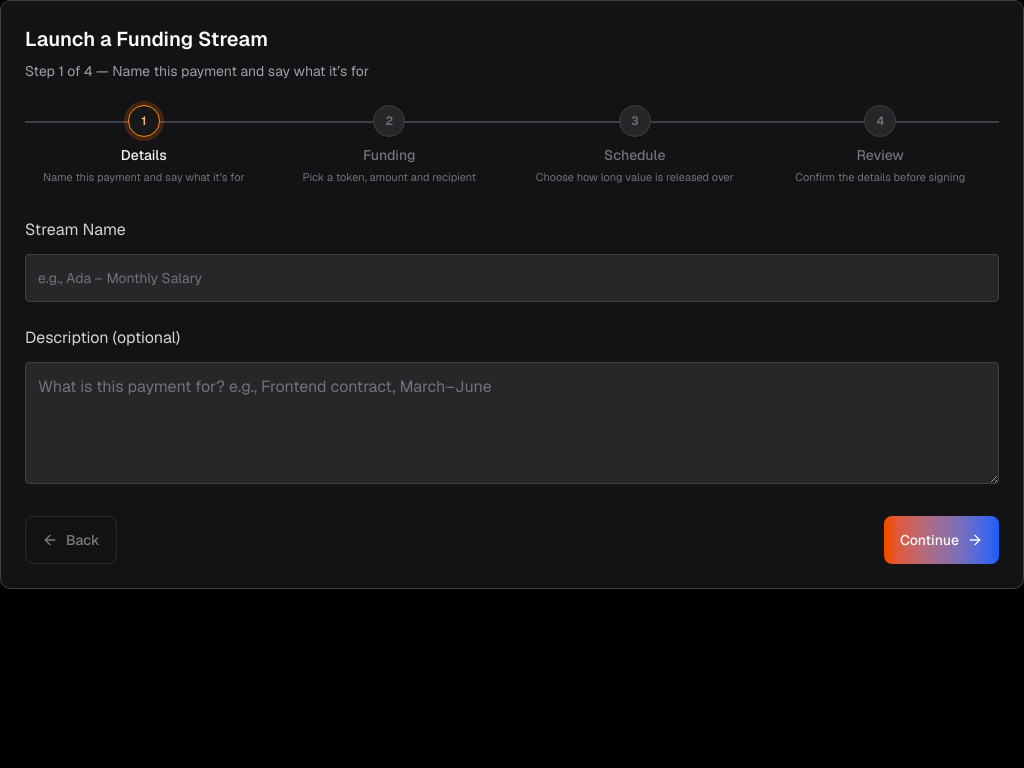
Scenario: StreamWizard › validates the recipient address and amount before leaving the funding step
Type "Q3 Contributor Grants" into the field labelled "Stream Name" at [512, 278], box [25,254,999,302]
Click the button "Continue" at [941, 540], box [884,516,999,564]
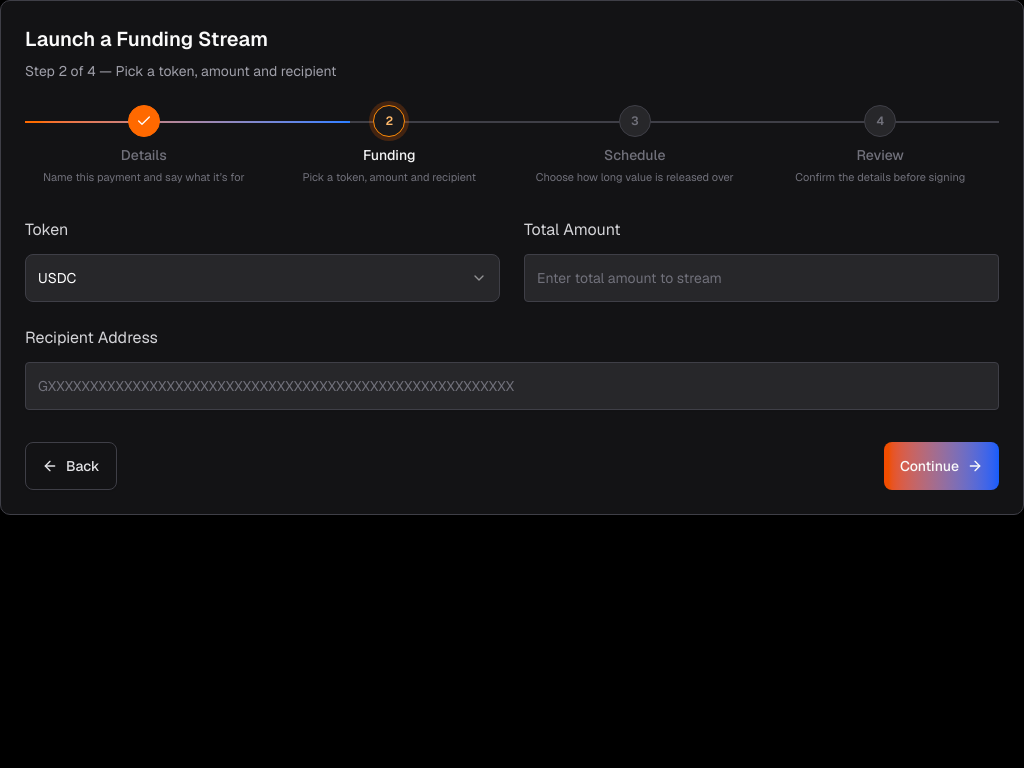
Type "not-a-stellar-address" into the field labelled "Recipient Address" at [512, 386], box [25,362,999,410]
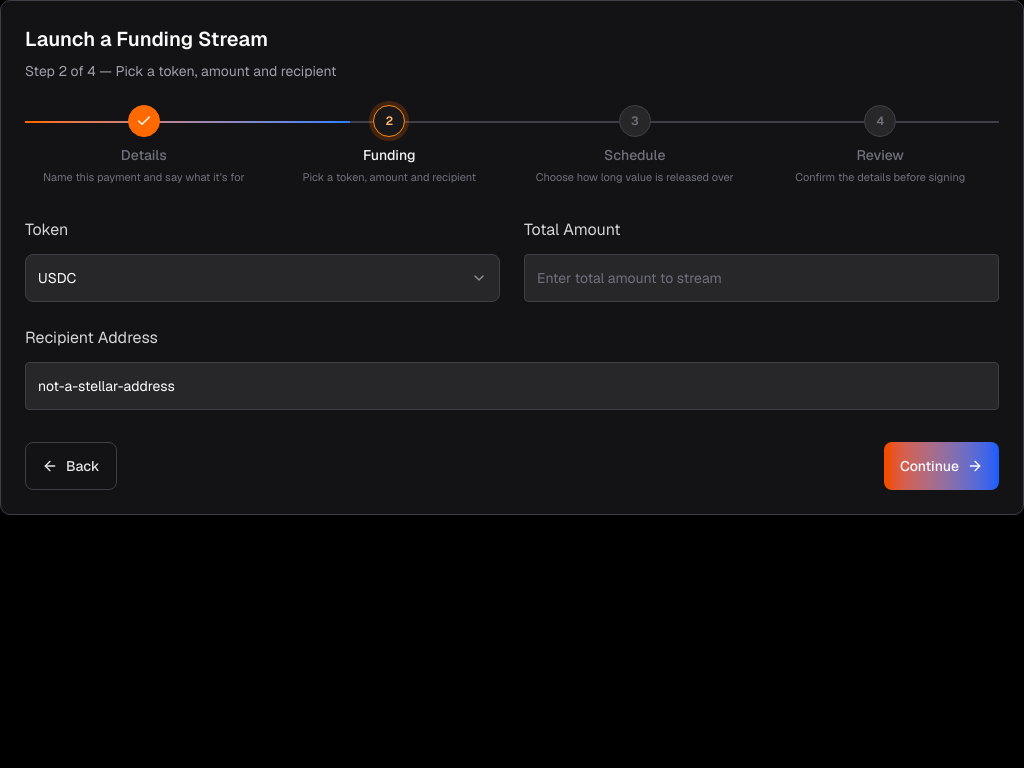
Click the button "Continue" at [941, 466], box [884,442,999,490]
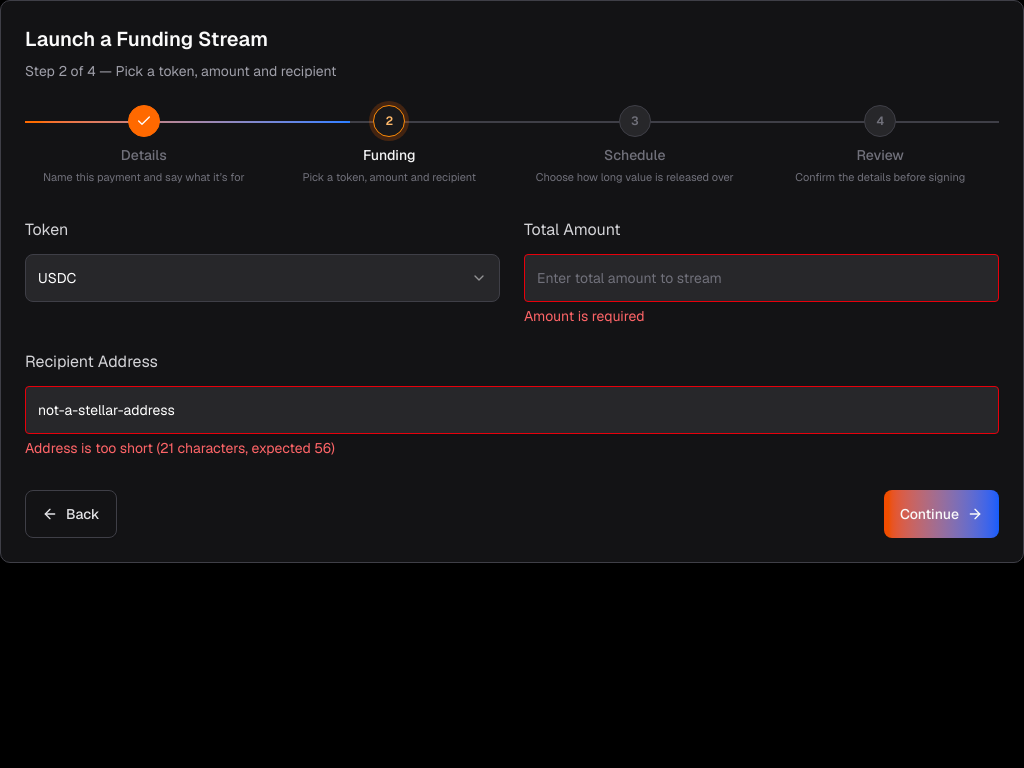
Check: the text "Step 2 of 4 — Pick a token, amount and recipient" is shown, box [25,62,336,80]
Replace the text in the field labelled "Recipient Address" with "GAAAAAAAAAAAAAAAAAAAAAAAAAAAAAAAAAAAAAAAAAAAAAAAAAAAAWHF" at [512, 410], box [25,386,999,434]
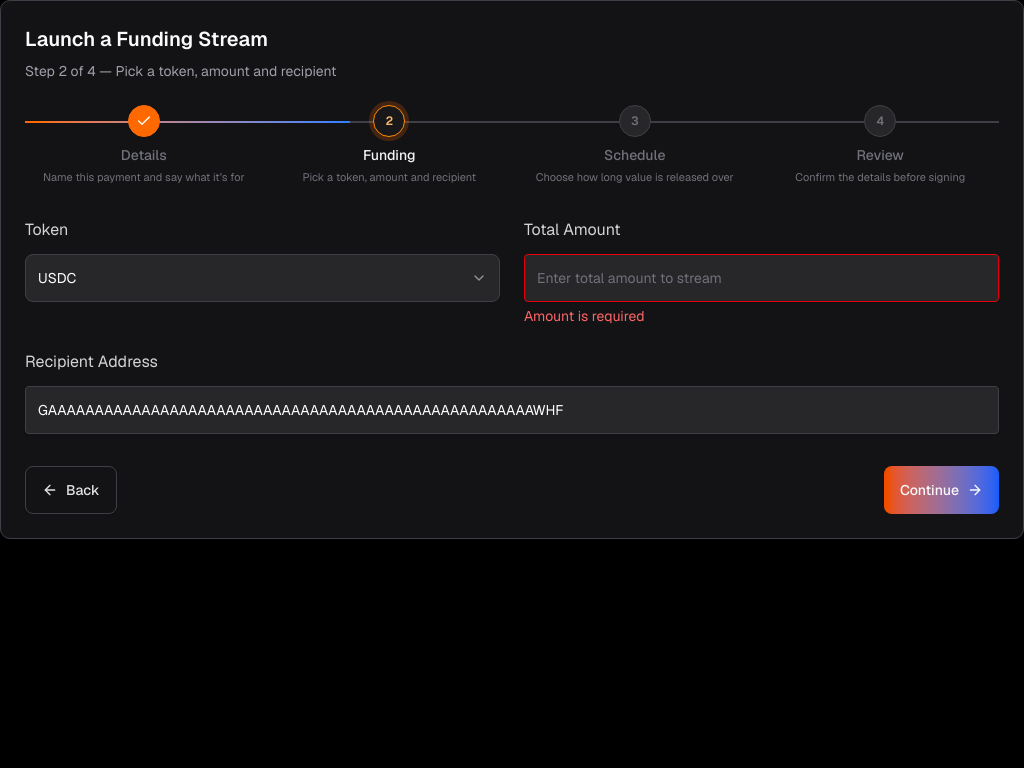
Type "1000" into the number field labelled "Total Amount" at [762, 278], box [524,254,999,302]
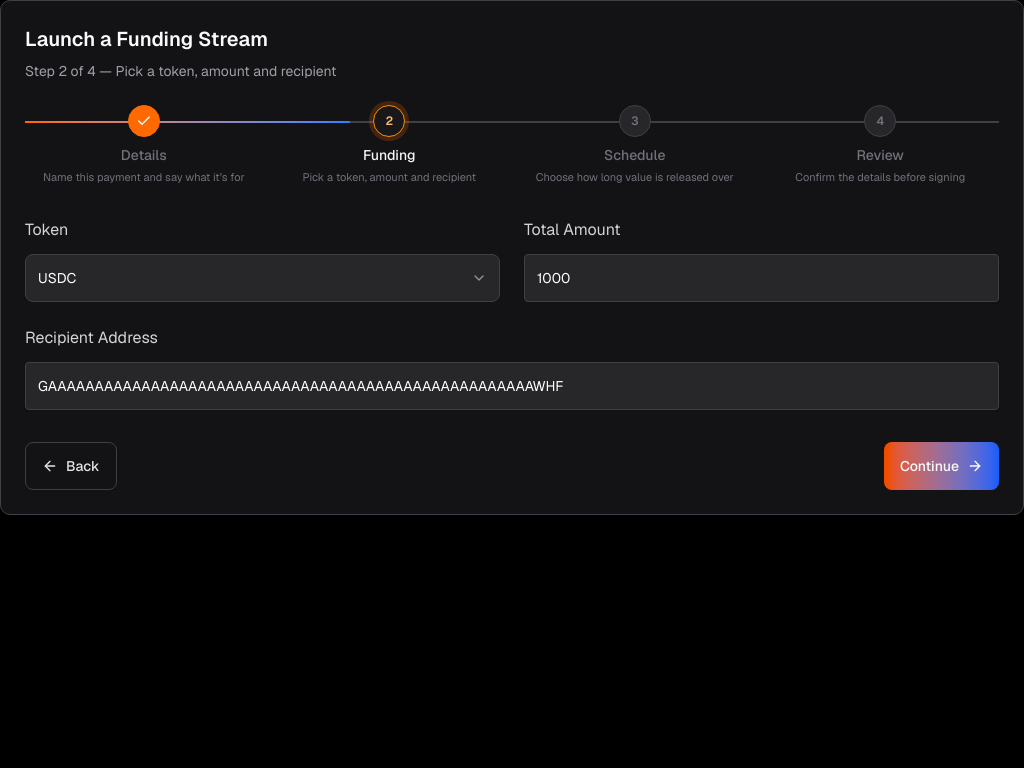
Click the button "Continue" at [941, 466], box [884,442,999,490]
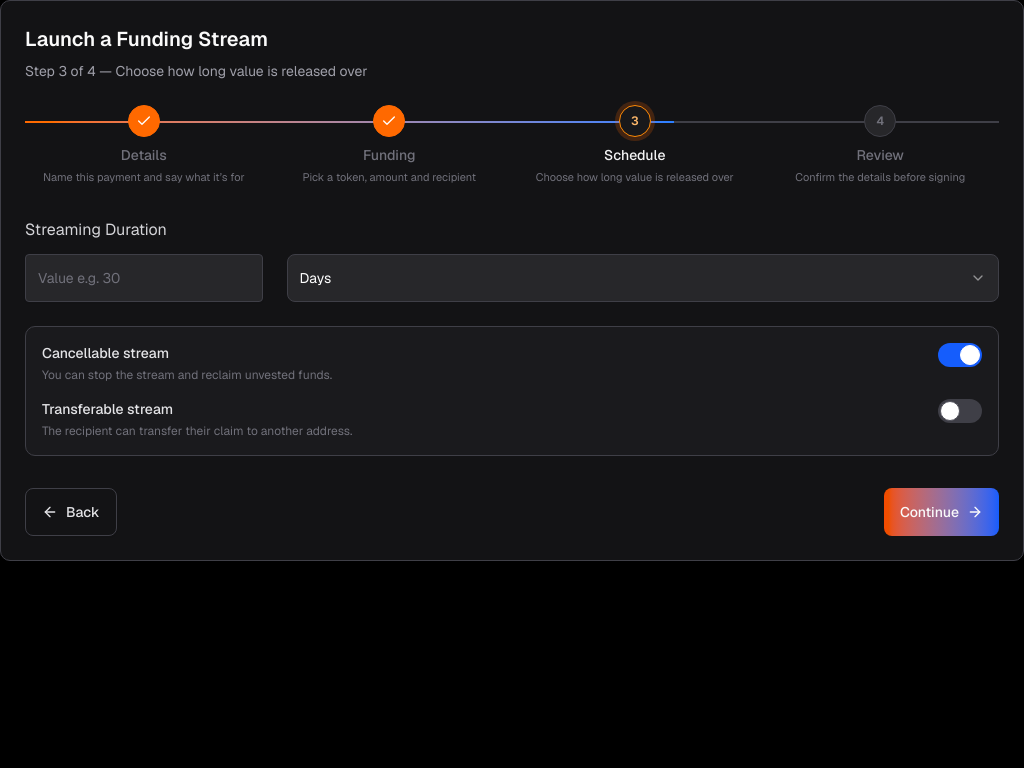
Check: the text "Step 3 of 4 — Choose how long value is released over" is shown, box [25,62,368,80]
